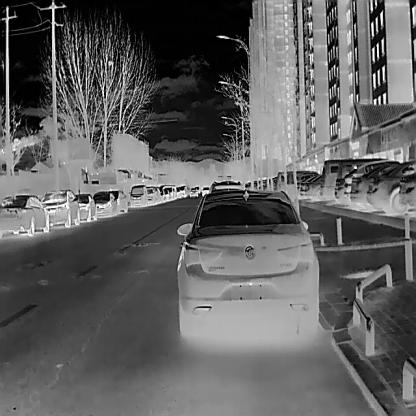car: (176, 190, 318, 336), (366, 160, 415, 213), (350, 162, 399, 209), (0, 194, 49, 235), (40, 188, 80, 226), (319, 158, 337, 198), (92, 192, 117, 218), (74, 193, 96, 221), (108, 189, 127, 213), (305, 174, 320, 198), (130, 184, 146, 206), (145, 186, 160, 204), (201, 186, 210, 196), (189, 187, 198, 197)
